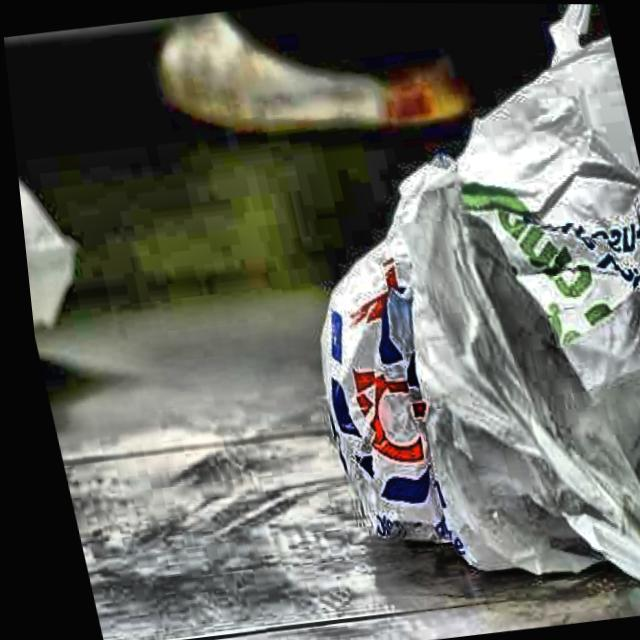Plastic: (244, 16, 640, 640)
